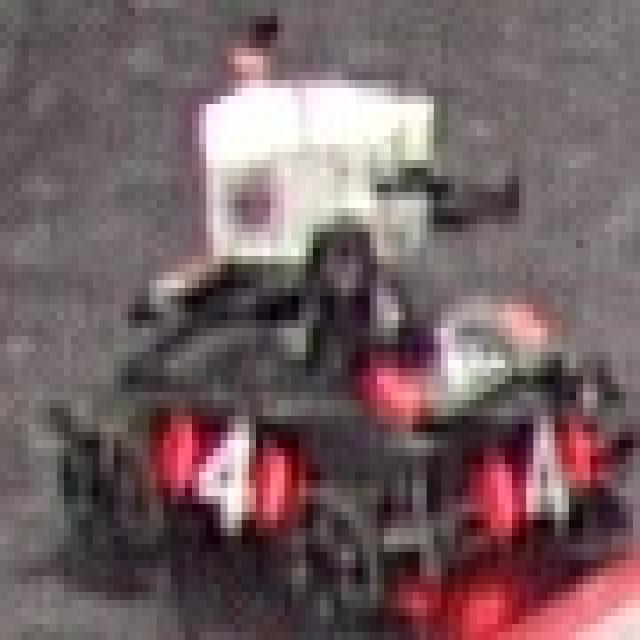R4: (362, 288, 562, 424), (164, 392, 298, 536), (483, 408, 598, 536)
